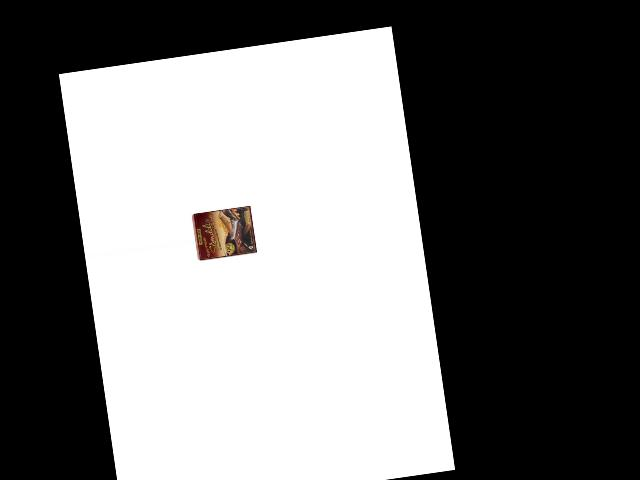chocolate: (191, 205, 257, 261)
